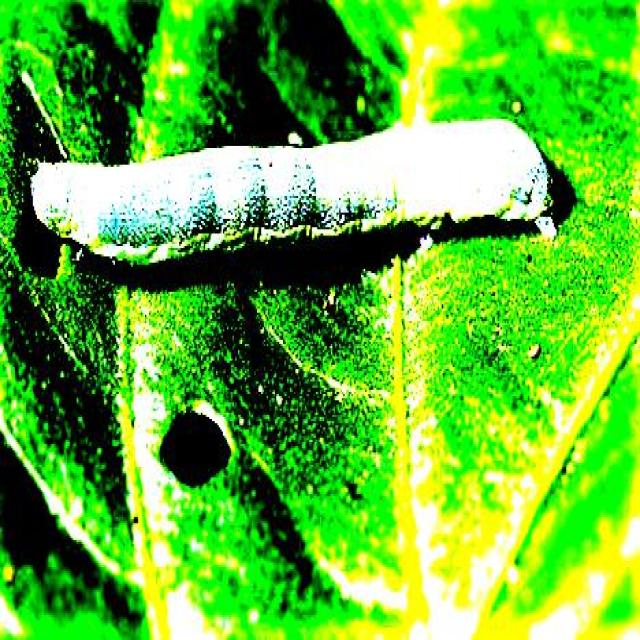Armyworm: (12, 112, 574, 303)
Armyworm_damage: (142, 366, 257, 513)
